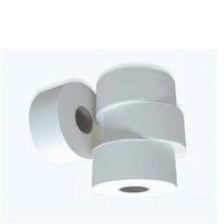tissue: (24, 76, 104, 171), (84, 134, 181, 204), (89, 63, 181, 132), (98, 97, 191, 164)
